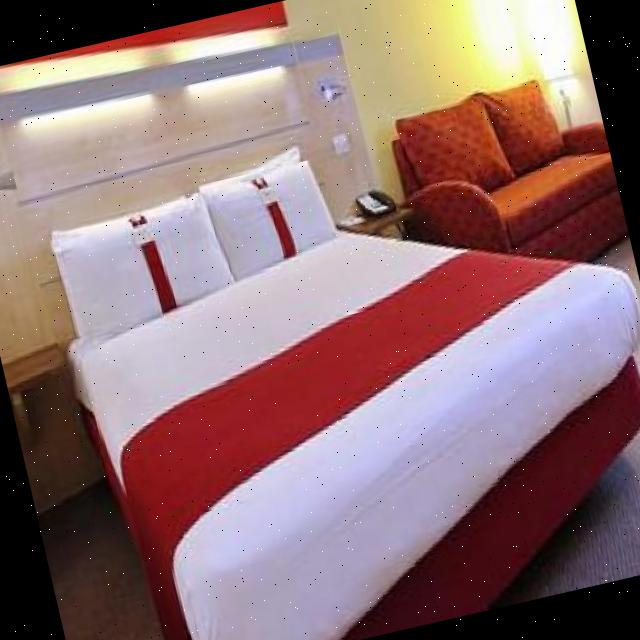Bed: (20, 64, 640, 640)
